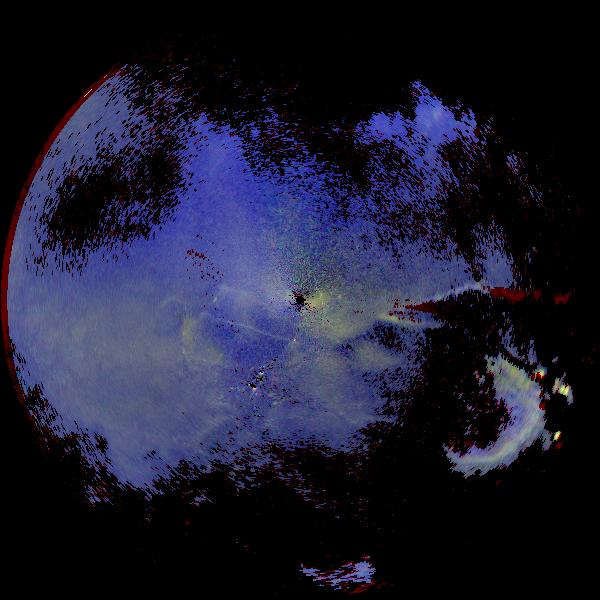roost: (117, 306, 216, 405)
